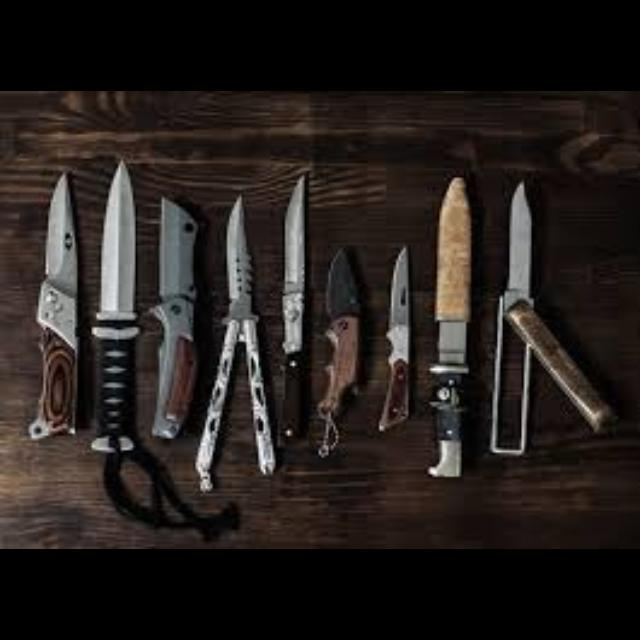Knife: (193, 193, 275, 492), (90, 159, 138, 453), (27, 169, 77, 439), (426, 176, 470, 477), (488, 178, 532, 456), (148, 195, 198, 438), (314, 246, 360, 458), (278, 171, 306, 441), (377, 246, 408, 432)
